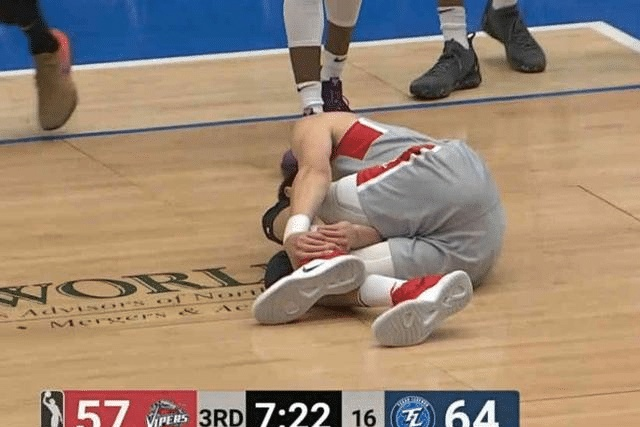falling: (241, 102, 511, 355)
